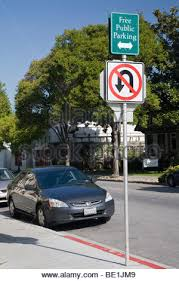No_u_turn: (107, 64, 142, 100)
